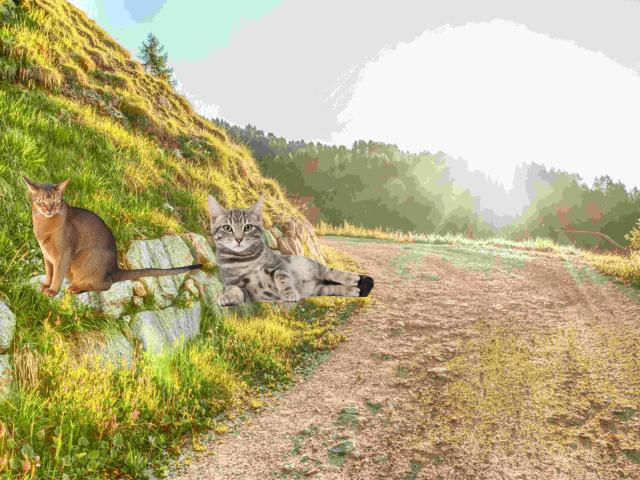cat: (25, 178, 201, 295), (205, 192, 373, 308)
